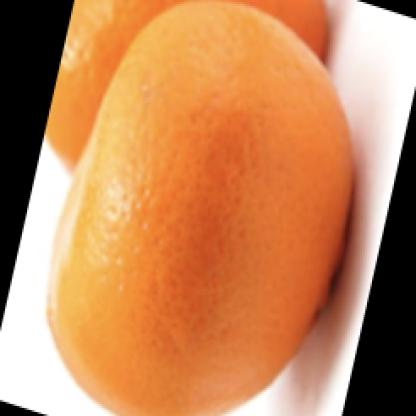fresh: (51, 2, 360, 416)
